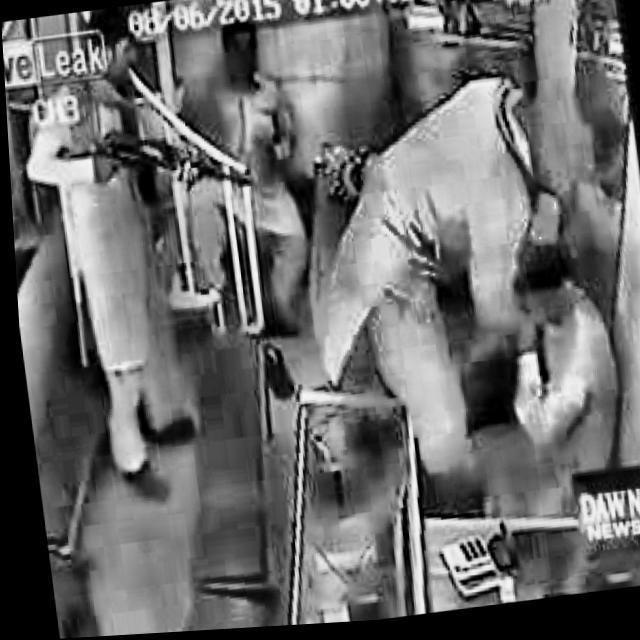Weapon: (404, 58, 626, 466), (71, 15, 184, 152), (200, 18, 305, 136)
